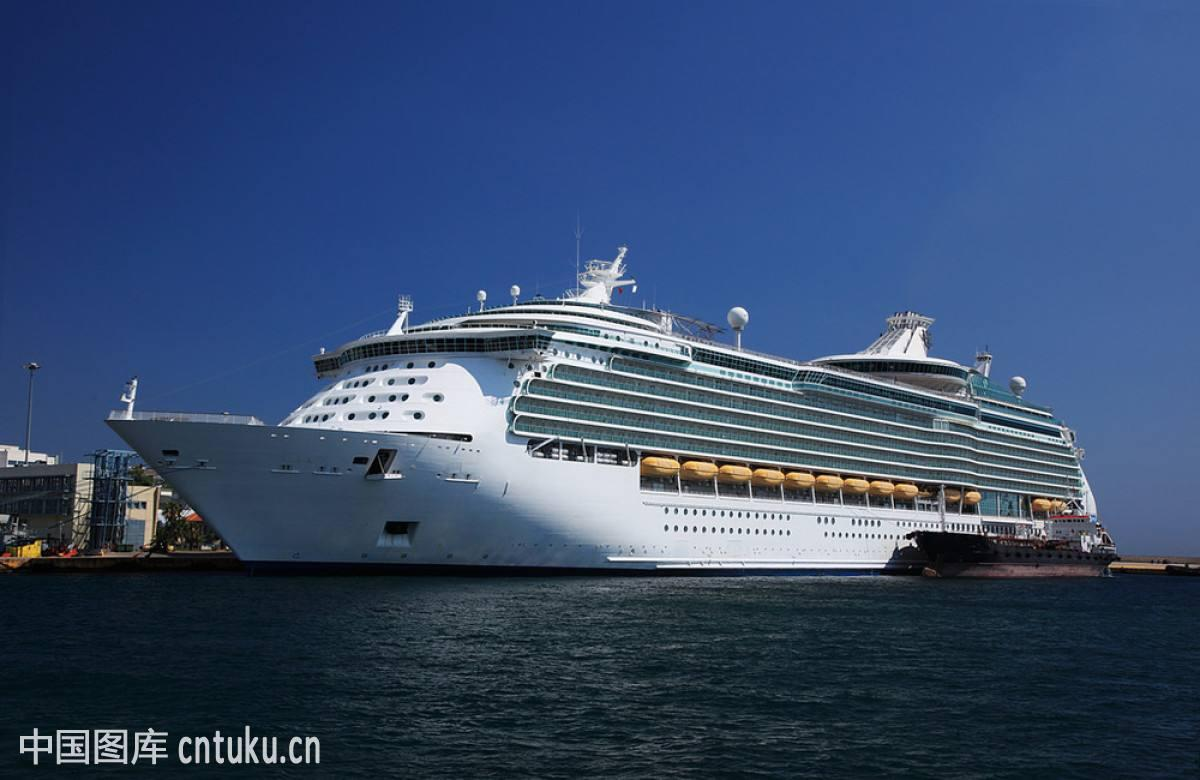Cargoship: (897, 509, 1125, 600)
youlun: (107, 186, 1120, 561)
